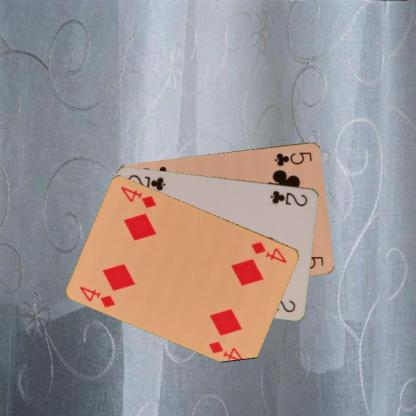2c: (268, 188, 309, 207)
4d: (77, 283, 117, 309), (248, 239, 288, 264)
5c: (272, 149, 313, 167)
